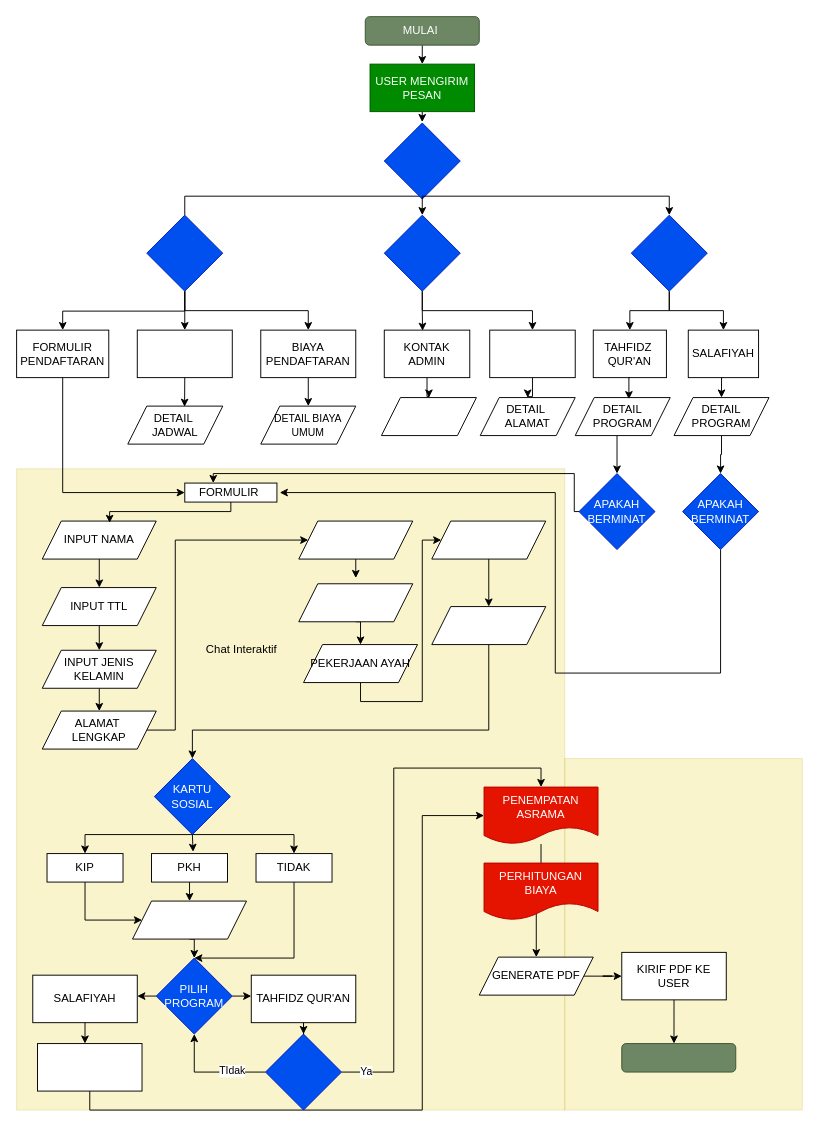
The diagram is 819 pixels wide and 1134 high, and some of its shapes have lost their labels. The box of each missing label's shape, as (x1, y1, x2, y2) in pixels:
ALAMAT PESANTREN: (489, 329, 575, 378)
BERSEDIA TES?: (265, 1033, 342, 1110)
DETAIL KONTAK: (380, 397, 476, 436)
INFORMASI KURIKULUM: (630, 214, 707, 291)
INFORMASI PENDAFTARAN: (146, 214, 223, 291)
INFORMASI UMUM: (383, 214, 460, 291)
INPUT NOMOR: (132, 900, 247, 939)
JADWAL PENDAFTARAN: (136, 329, 232, 378)
KIRIM PAS FOTO: (431, 606, 546, 645)
NAMA AYAH: (298, 520, 413, 559)
NAMA IBU: (298, 583, 413, 622)
PENGHASILAN ORTU: (431, 520, 546, 559)
PILIH KATEGORI: (383, 122, 460, 199)
PROSES DATA: (37, 1043, 142, 1091)
SELESAI: (621, 1043, 736, 1072)
